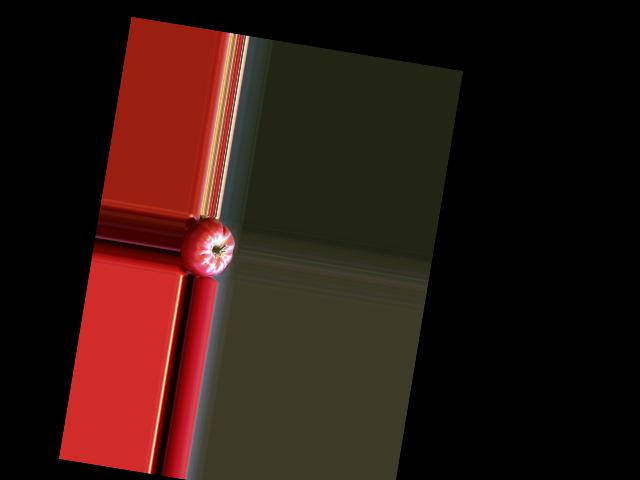tomato: (176, 212, 238, 280)
